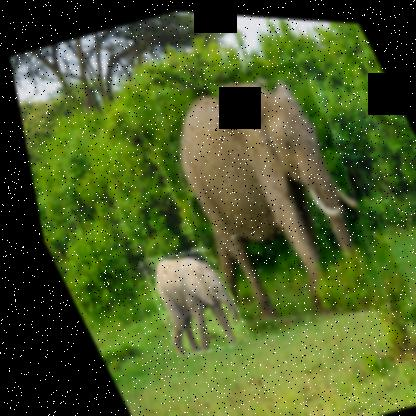Elephas-maximus: (118, 46, 413, 349), (122, 238, 246, 362)
